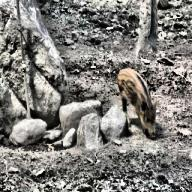boar: (116, 67, 158, 140)
